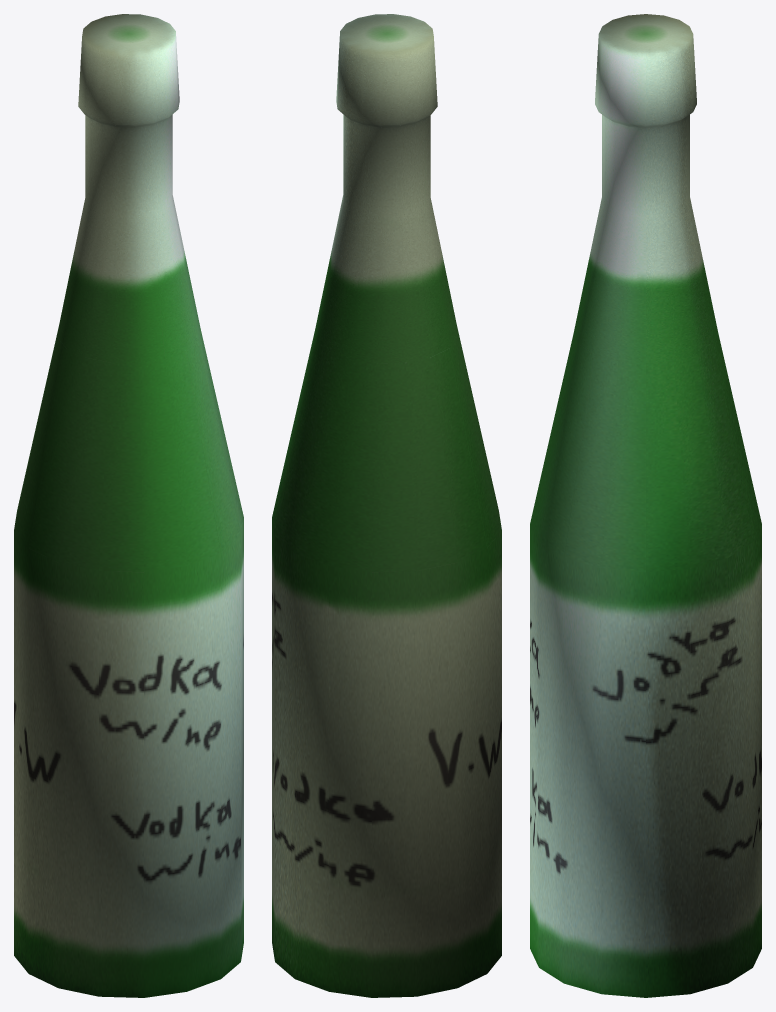
Rendered from wine3.fbx.
3 renders of one model, left to right at view 1: azimuth 30°, elevation 25°; view 2: azimuth 150°, elevation 25°; view 3: azimuth 270°, elevation 25°, orthographic.
Visible parts, largest first — view 1: wine3low; view 2: wine3low; view 3: wine3low.
Part boxes in pixels (x1,y1,x2,y2): wine3low: (14,14,243,997); wine3low: (272,14,501,997); wine3low: (530,14,761,997).
Bounding box in the file's own units: 0.0653 × 0.0653 × 0.2846.
Materials: 1 (1 with a texture image).
